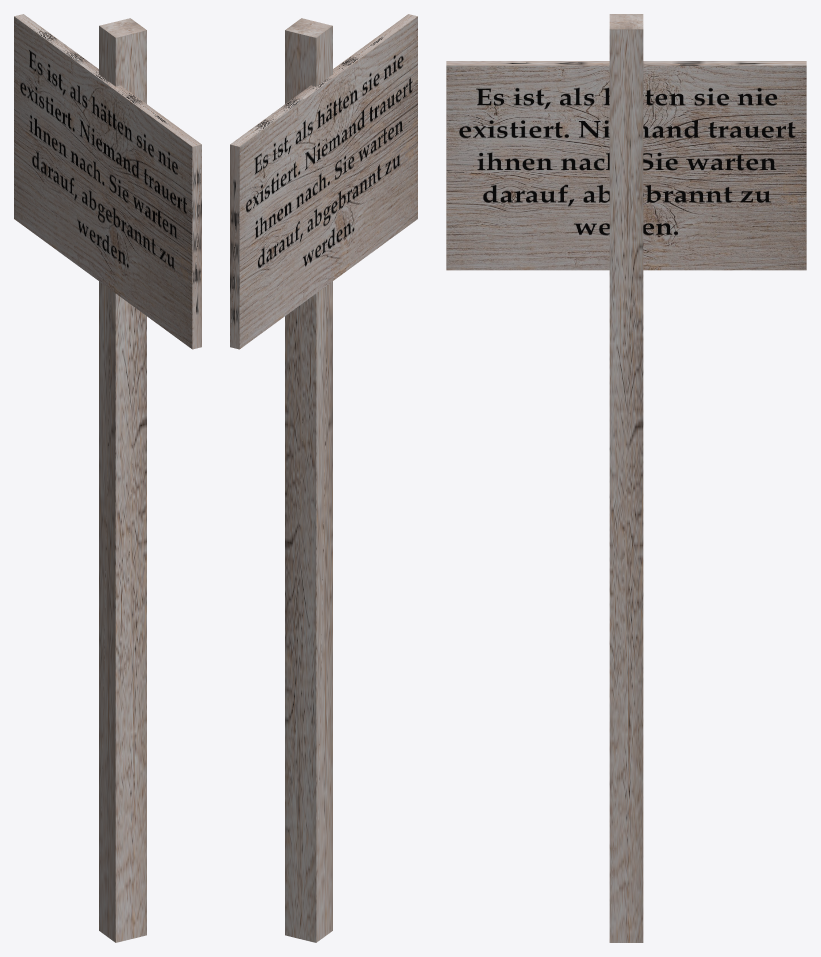
Rendered from Schild Scheune 2.fbx.
3 views of the same model, side by side, from view 1: azimuth 30°, elevation 25°; view 2: azimuth 150°, elevation 25°; view 3: azimuth 270°, elevation 25° (orthographic).
Visible parts, largest first — view 1: Cube__1_, Cube; view 2: Cube__1_, Cube; view 3: Cube__1_, Cube.
Part boxes in pixels (left/top/right/bottom): Cube__1_: left=14, top=14, right=201, bottom=349; Cube: left=99, top=18, right=146, bottom=942; Cube__1_: left=230, top=14, right=417, bottom=349; Cube: left=285, top=18, right=332, bottom=942; Cube__1_: left=446, top=61, right=806, bottom=270; Cube: left=609, top=14, right=643, bottom=942.
Size of the model in its own units: 12.87 by 313 by 112.
